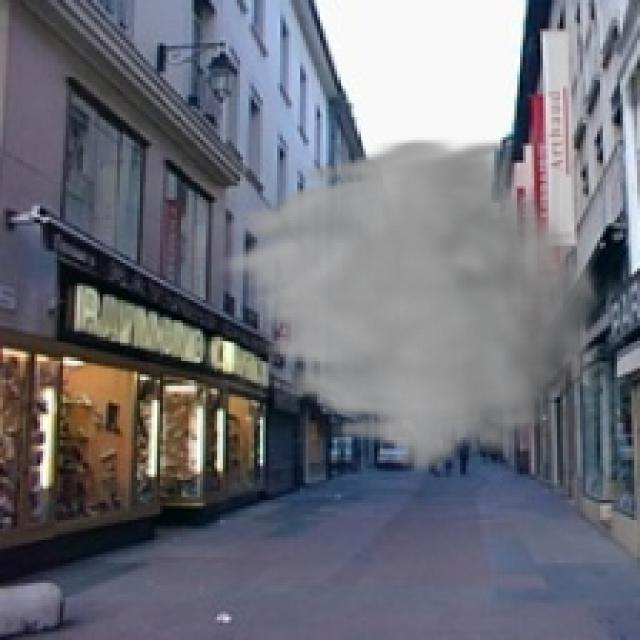smoke: (203, 134, 608, 477)
